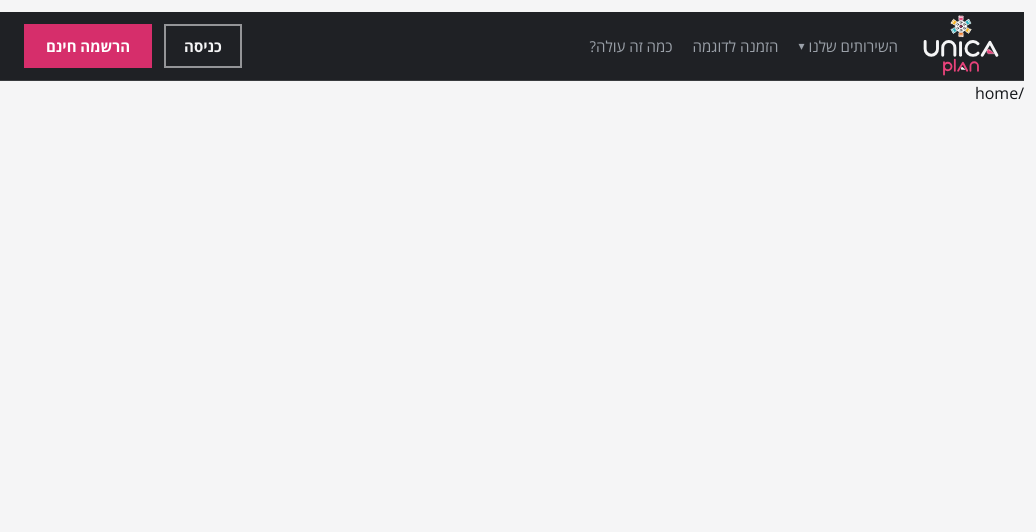
Test: site header — the services disclosure › is closed at rest, and aria-controls names the list it opens
Click the button "השירותים שלנו ▾" at x=848, y=46, box [798,35,898,58]
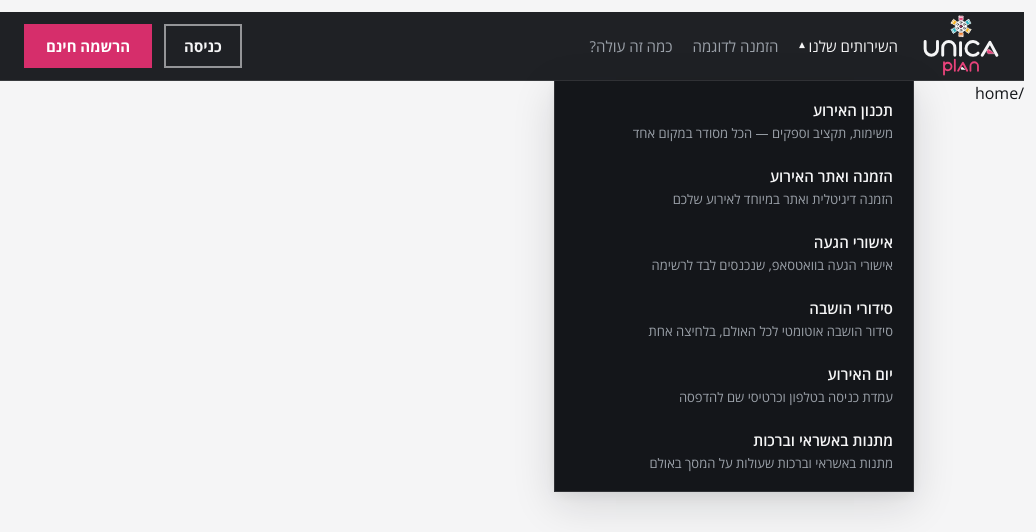
Expected: the button "השירותים שלנו ▾" is expanded, [798,35,898,58]
